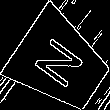N_SE: (30, 32, 91, 94)
